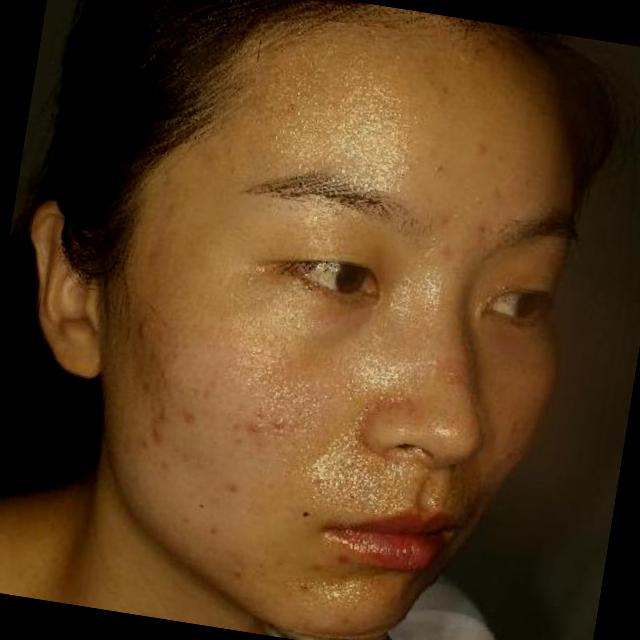blackhead: (289, 503, 322, 533)
nodules: (266, 412, 294, 438)
